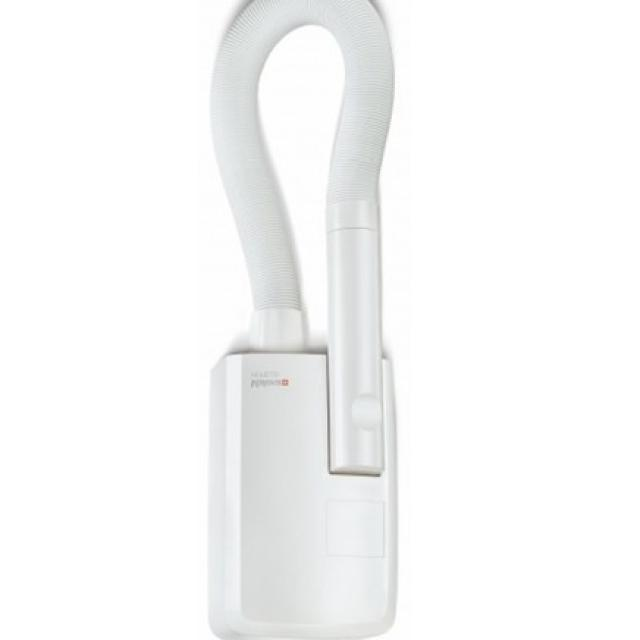dryer: (188, 0, 431, 640)
